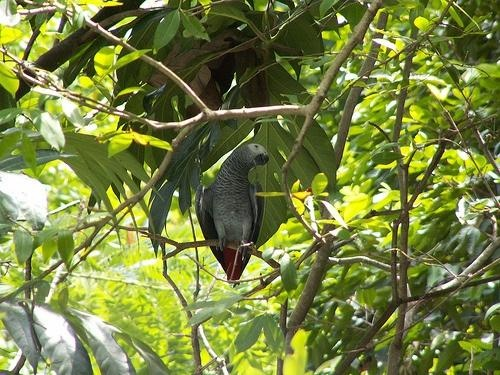bird: (195, 142, 272, 284)
